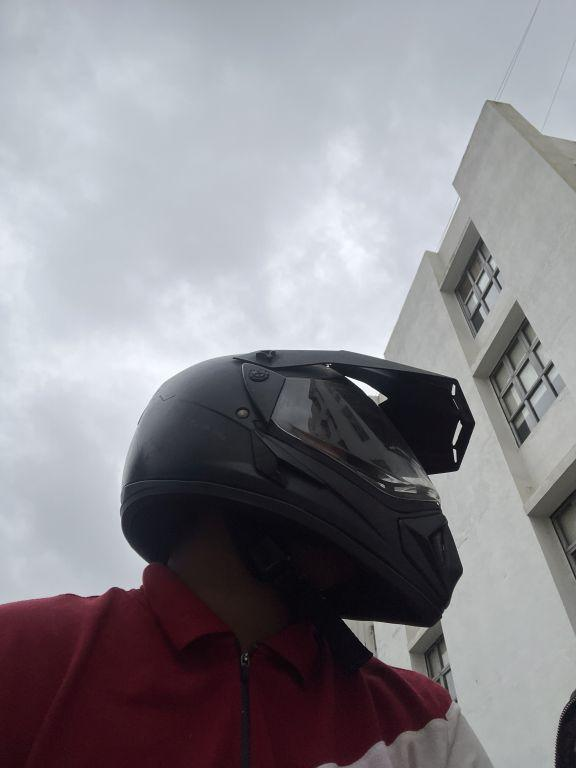helmet: (115, 335, 480, 641)
